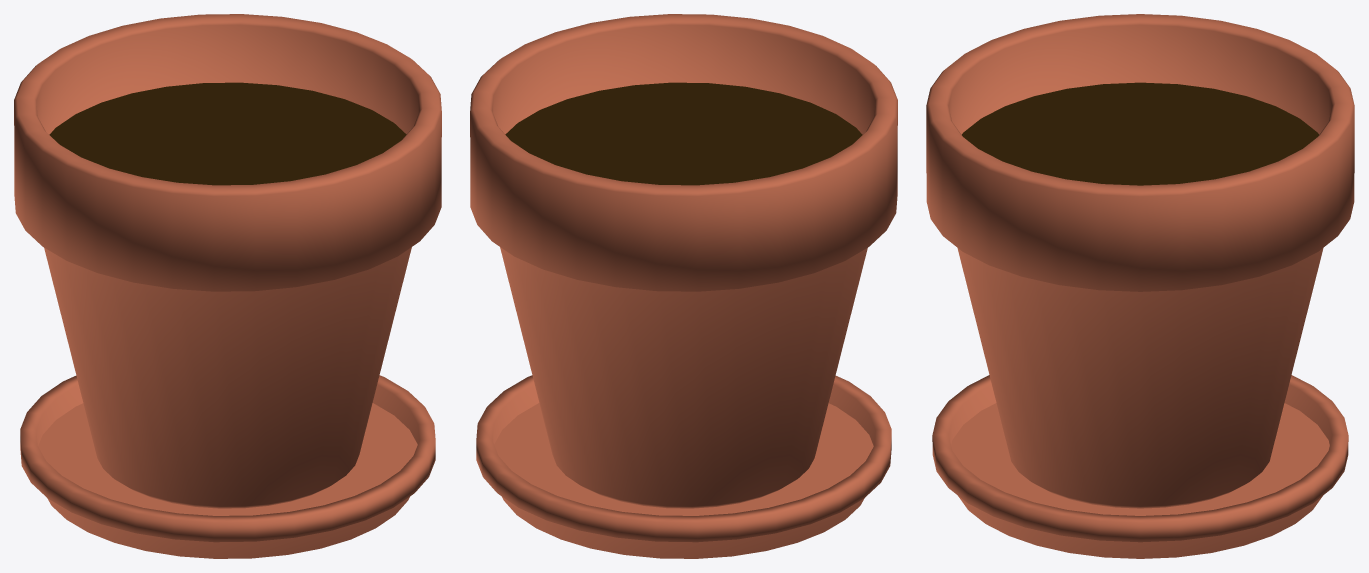
The model's file is Pot_Terracotta.fbx.
The picture shows the model from 3 angles, left to right: view 1: azimuth 30°, elevation 25°; view 2: azimuth 150°, elevation 25°; view 3: azimuth 270°, elevation 25°; orthographic projection.
Visible parts, largest first — view 1: Pot_Terracotta; view 2: Pot_Terracotta; view 3: Pot_Terracotta.
Part boxes in pixels (x1,y1,x2,y2): Pot_Terracotta: (14,14,441,558); Pot_Terracotta: (470,14,897,558); Pot_Terracotta: (926,14,1354,558).
Size of the model in its own units: 206 by 200 by 206.
